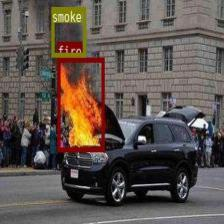fire: (57, 57, 104, 151)
smoke: (51, 6, 85, 57)
